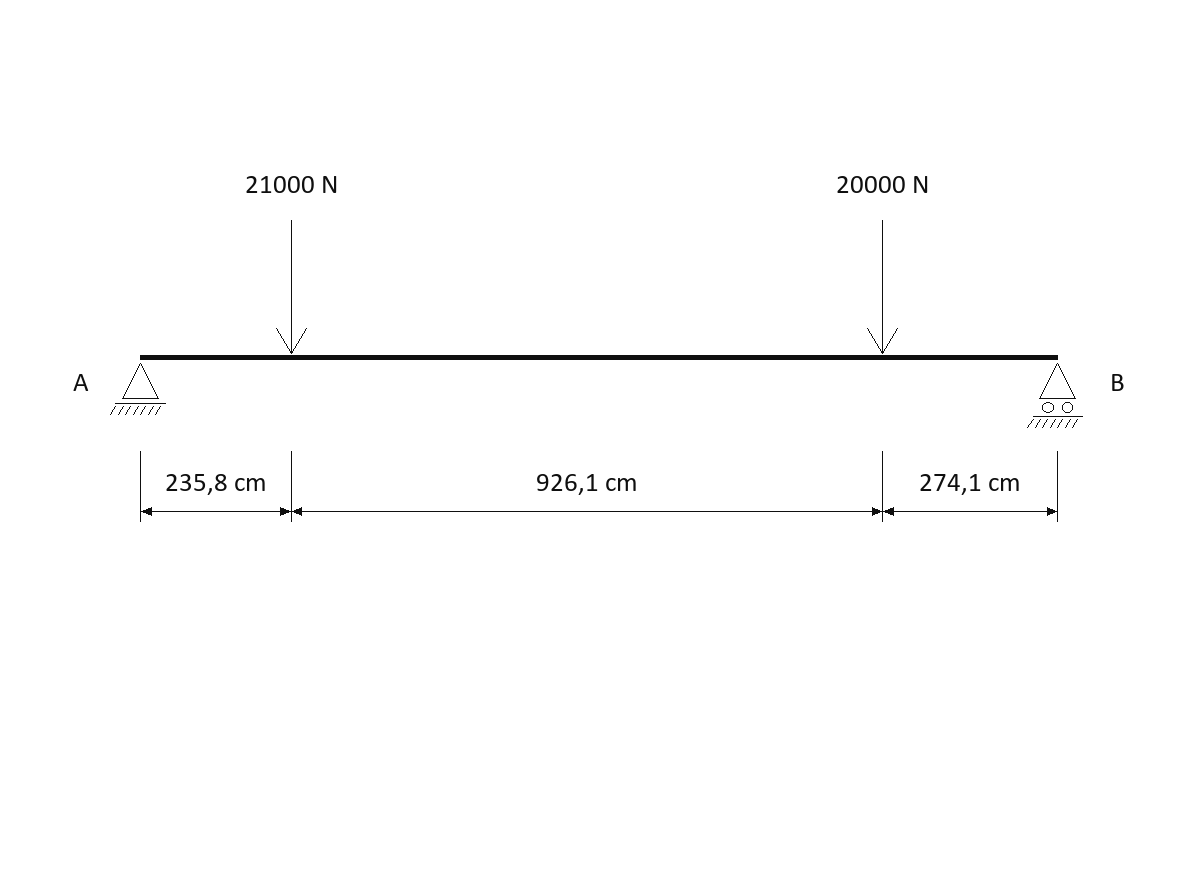pin_support: (110, 363, 166, 415)
point_load: (276, 220, 307, 354), (867, 220, 898, 354)
roller_support: (1027, 363, 1083, 428)
